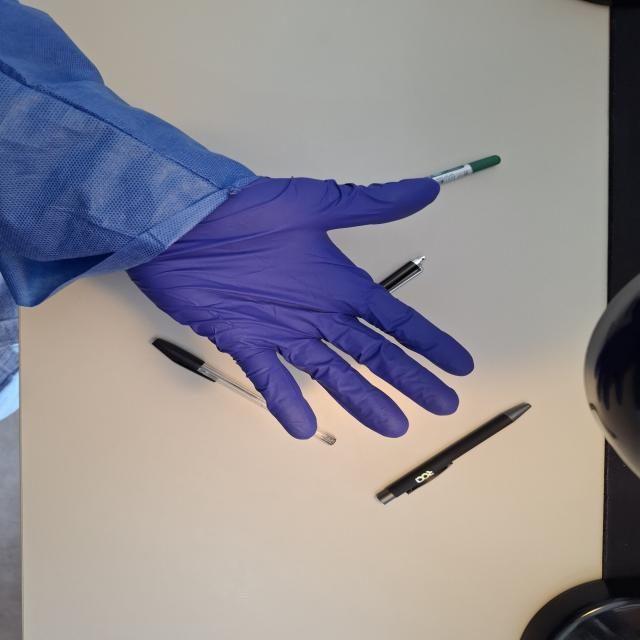glove_on: (124, 174, 478, 442)
